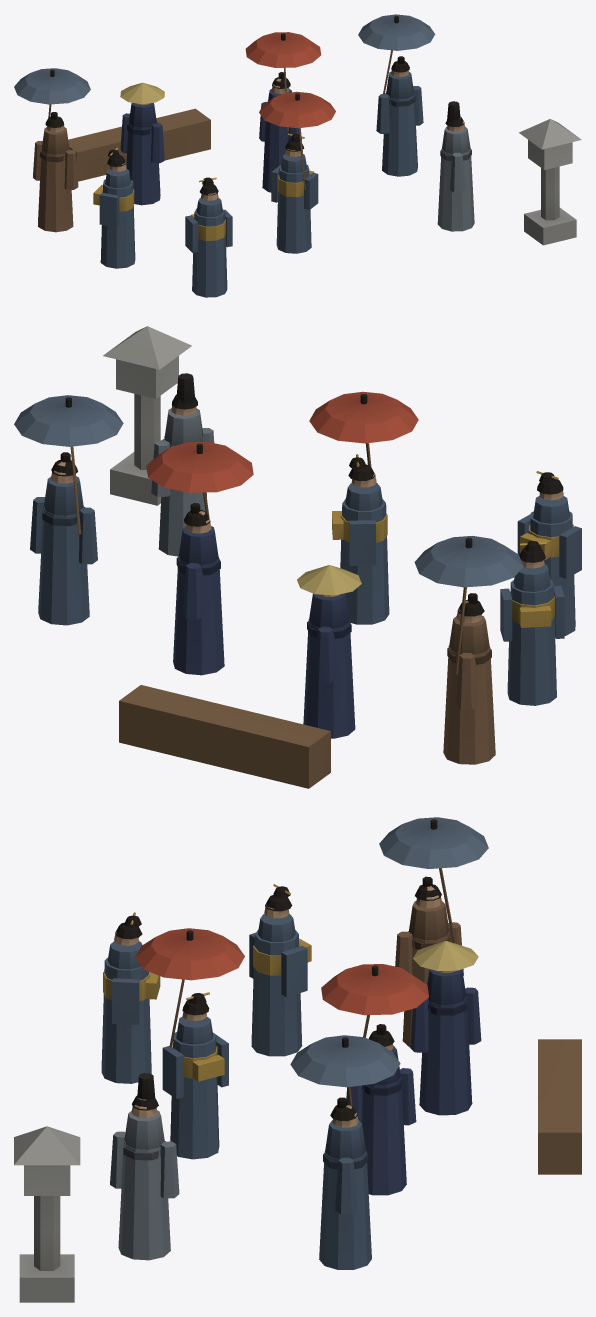
The model's file is crowd.glb.
The picture shows the model from 3 angles, top to bottom: view 1: azimuth 30°, elevation 25°; view 2: azimuth 150°, elevation 25°; view 3: azimuth 270°, elevation 25°; orthographic projection. The views are drawn at different scales.
Visible parts, largest first — view 1: base; view 2: base; view 3: base.
Part boxes in pixels (x1=…): base: x1=14, y1=14, x2=581, y2=297; base: x1=14, y1=326, x2=581, y2=788; base: x1=14, y1=817, x2=581, y2=1302.
Bounding box in the file's own units: 6.21 × 2.19 × 5.15.
